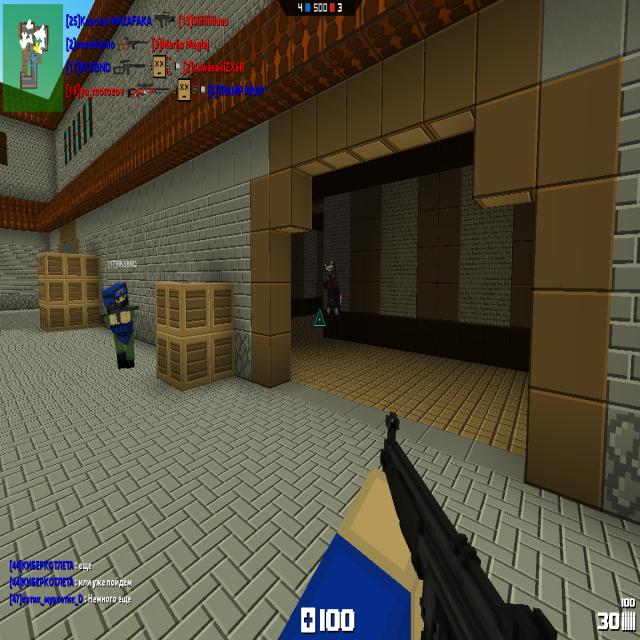enemy: (322, 260, 341, 320)
